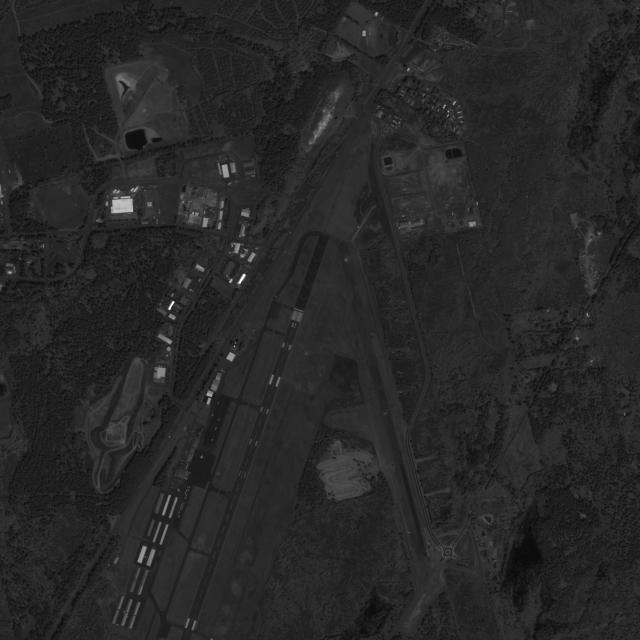storage-tank: (166, 347, 171, 351)
